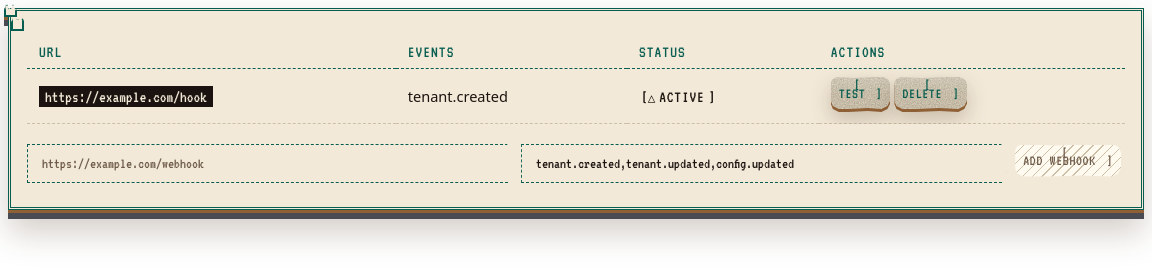
WebhookEditor delete › asks for confirmation and does not delete on the first click
Expected: the text "https://example.com/hook" is shown, [39,86,213,107]
Click the button "Delete".
click(931, 93)  # box [894,77,967,109]
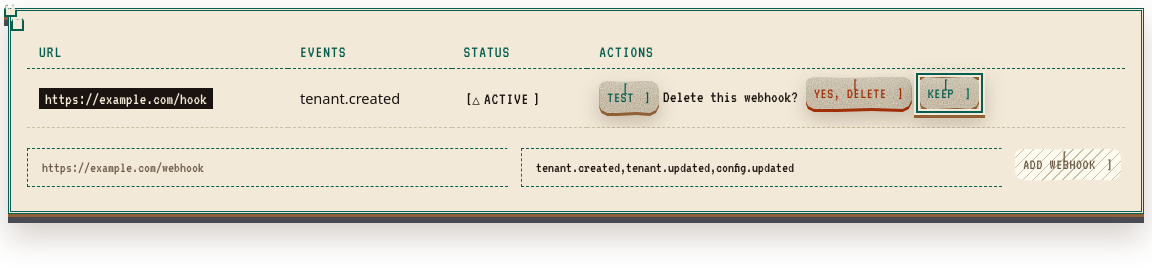
Now the text "Delete this webhook?" is shown, box [663,88,798,104]
